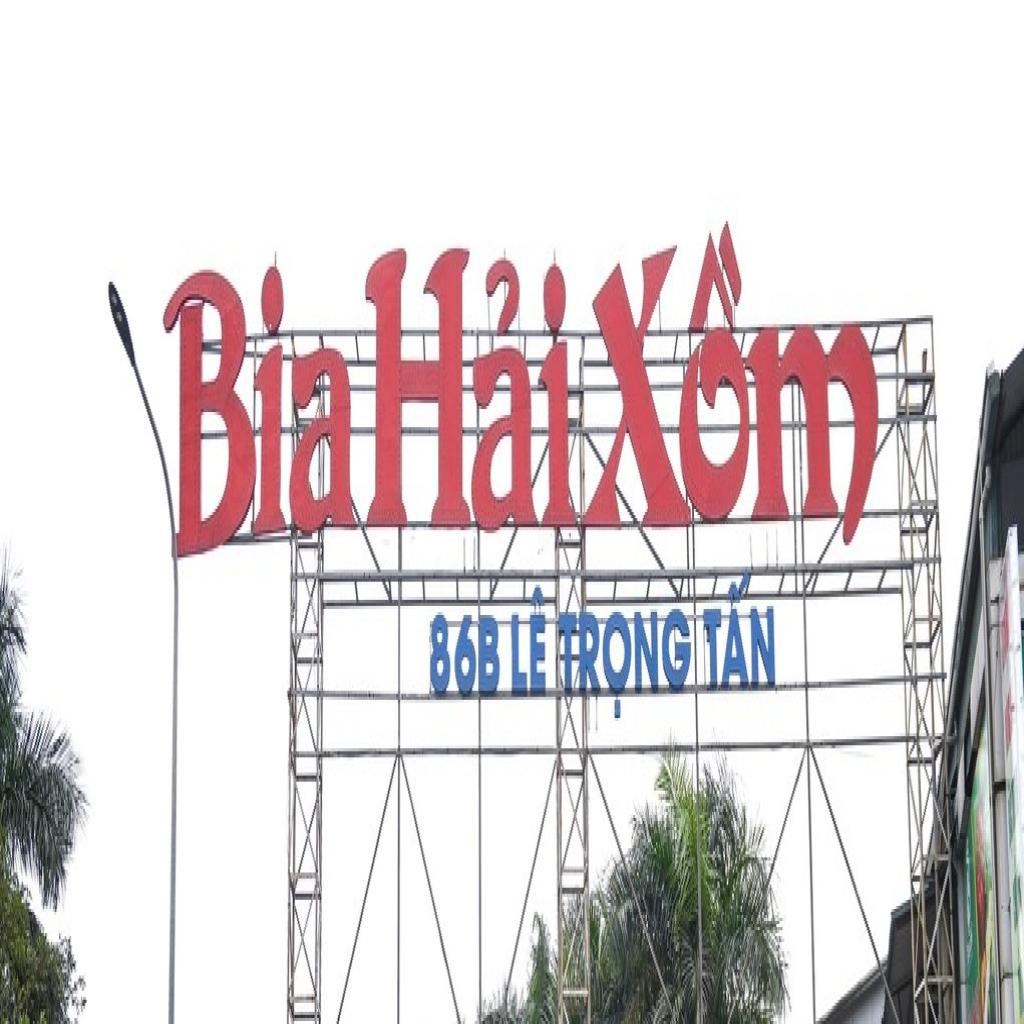text: (578, 185, 884, 557), (363, 234, 579, 536), (162, 242, 359, 572), (557, 603, 694, 724), (701, 563, 778, 700), (430, 612, 502, 700), (510, 578, 548, 700)
